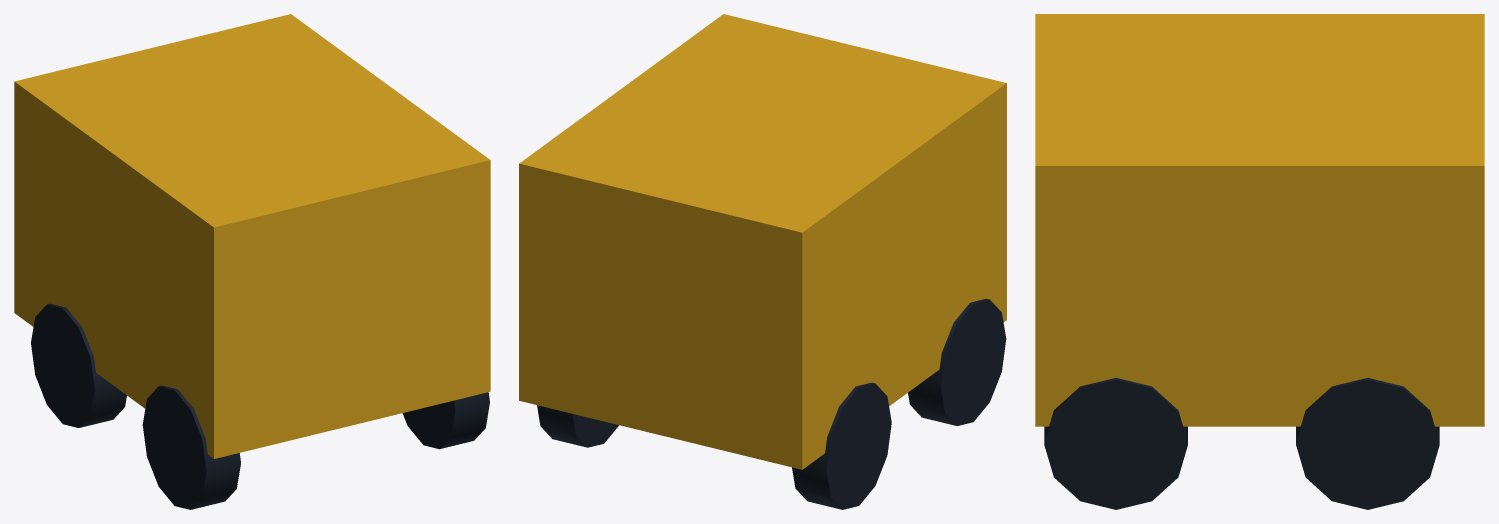
The model's file is yard-jockey-body-crafted-surface.glb.
3 views of the same model, side by side, from view 1: azimuth 30°, elevation 25°; view 2: azimuth 150°, elevation 25°; view 3: azimuth 270°, elevation 25° (orthographic). The views are drawn at different scales.
Parts seen in each view (by area): view 1: Authored shadows false:false; view 2: Authored shadows false:false; view 3: Authored shadows false:false.
Part boxes in pixels (left/top/right/bottom): Authored shadows false:false: left=14, top=14, right=490, bottom=509; Authored shadows false:false: left=519, top=14, right=1006, bottom=509; Authored shadows false:false: left=1035, top=14, right=1484, bottom=509.
Bounding box in the file's own units: 0.82 × 0.84 × 1.
